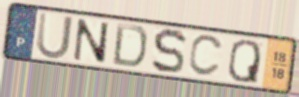C: (186, 34, 226, 79)
D: (110, 21, 149, 70)
N: (72, 17, 110, 66)
Q: (226, 38, 262, 85)
S: (150, 28, 189, 76)
U: (35, 10, 75, 61)
